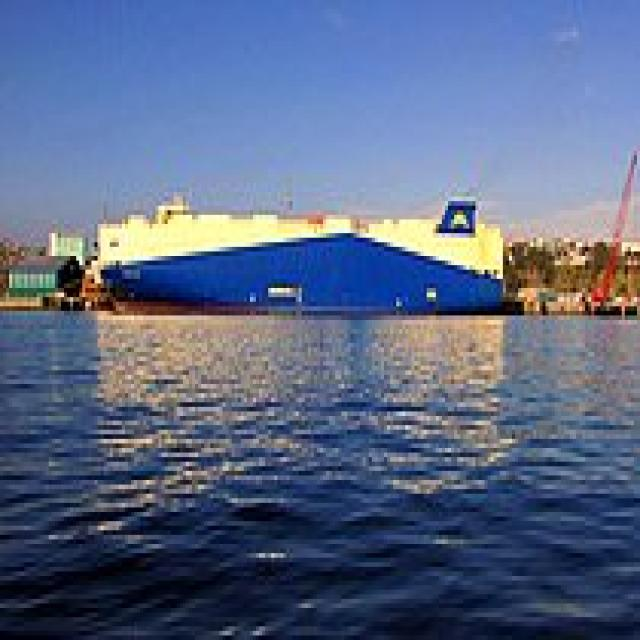Carrier: (91, 183, 509, 315)
